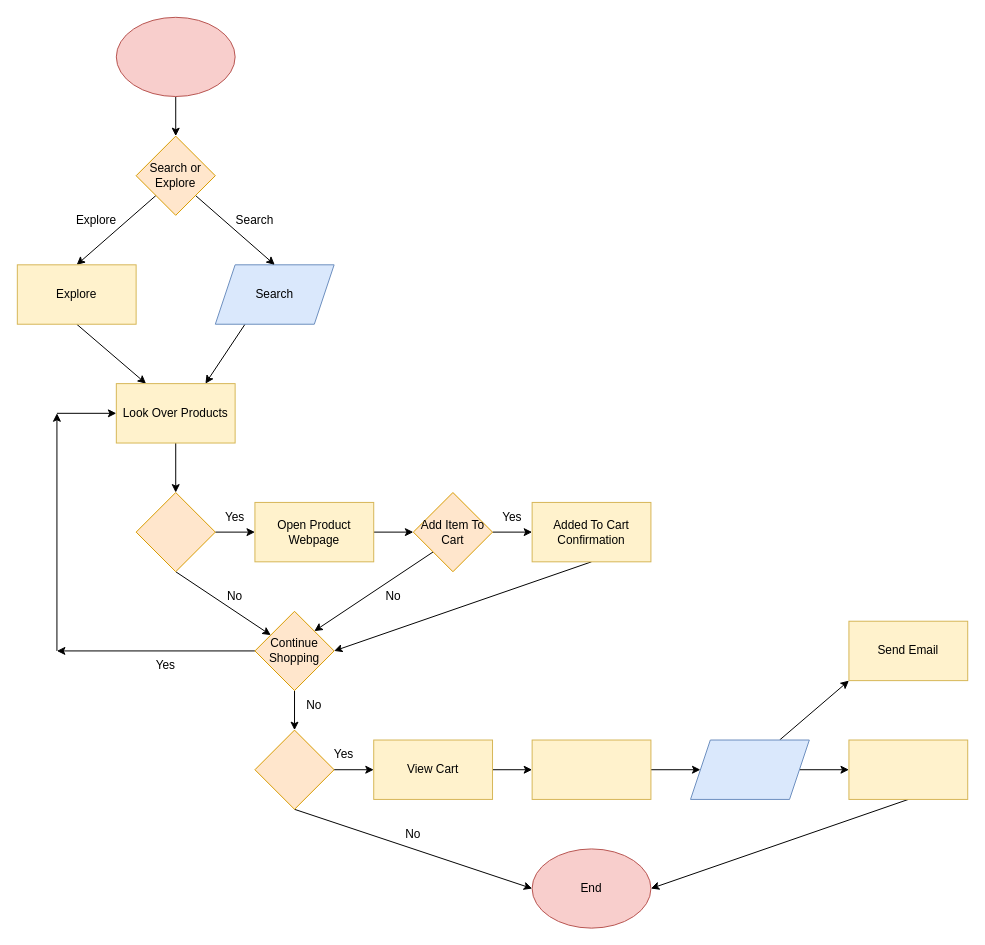
Some shapes in this 985 by 945 pixel diagram are drawn without their labels. The box of each missing label's shape, as (x1, y1, x2, y2) in pixels:
Checkout: (254, 729, 334, 809)
Order Confirmation: (848, 739, 968, 799)
Payment Information: (690, 739, 809, 799)
Start: (115, 16, 235, 97)
View Payment: (531, 739, 651, 799)
View Product: (135, 492, 215, 572)
